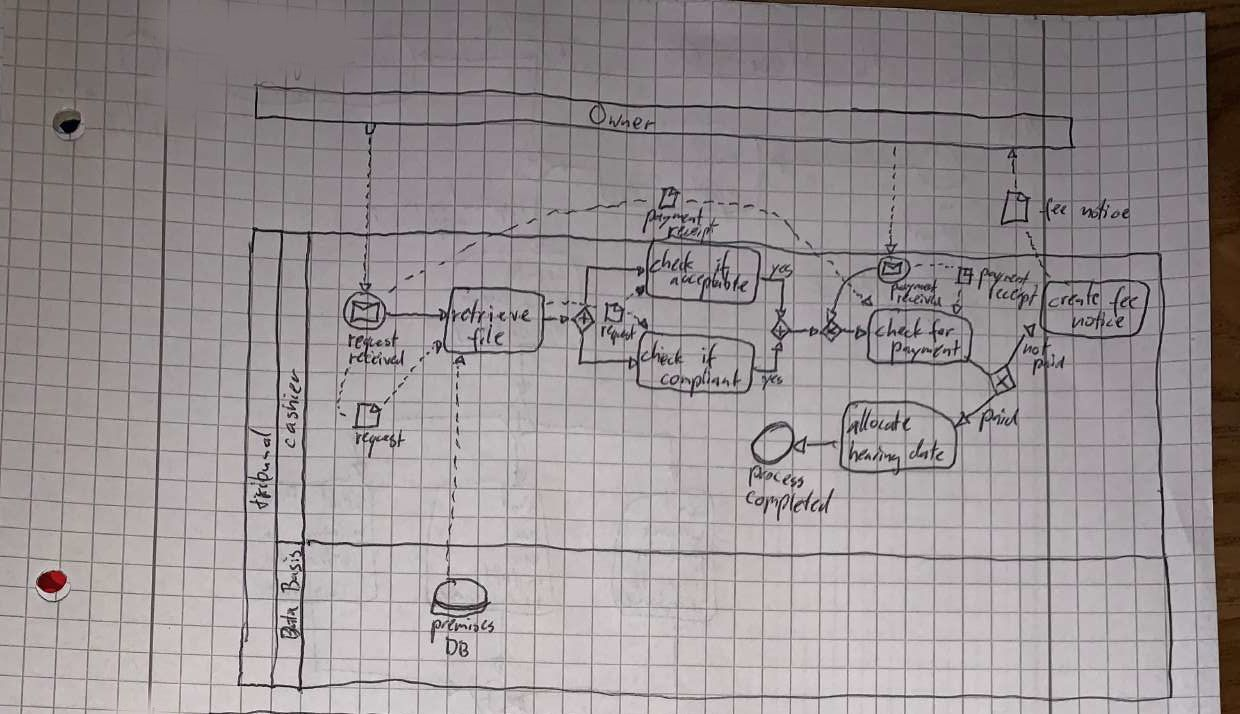Basis: (277, 547, 308, 597)
DB: (441, 635, 475, 662)
Data: (277, 604, 304, 644)
Owner: (586, 103, 660, 134)
accept: (994, 281, 1043, 313)
acceptable: (668, 267, 752, 302)
allocate: (843, 405, 916, 439)
cashier: (278, 365, 306, 454)
check: (647, 245, 698, 277), (637, 338, 686, 369), (871, 315, 927, 342)
completed: (741, 485, 839, 525)
compliant: (656, 364, 747, 401)
create: (1047, 276, 1105, 312)
date: (907, 437, 950, 465)
fee: (1109, 284, 1142, 320), (1039, 197, 1072, 222)
file: (466, 322, 509, 357)
for: (926, 315, 958, 348)
hearing: (845, 435, 905, 480)
if: (710, 250, 735, 283), (697, 340, 721, 372)
not: (1021, 332, 1056, 359)
notice: (1070, 309, 1131, 333), (1079, 199, 1136, 223)
paid: (975, 404, 1024, 436), (1029, 351, 1069, 376)
payment: (887, 337, 966, 369), (638, 203, 707, 236), (975, 265, 1035, 294), (888, 276, 942, 297)
premises: (427, 615, 498, 649)
process: (743, 461, 809, 491)
receipt: (664, 216, 723, 245)
received: (345, 344, 409, 370), (893, 291, 946, 309)
request: (351, 425, 410, 463), (344, 327, 402, 356), (597, 322, 639, 347)
retrieve: (447, 296, 536, 329)
tribunal: (243, 420, 278, 515)
yes: (757, 370, 788, 394), (767, 260, 796, 283)
